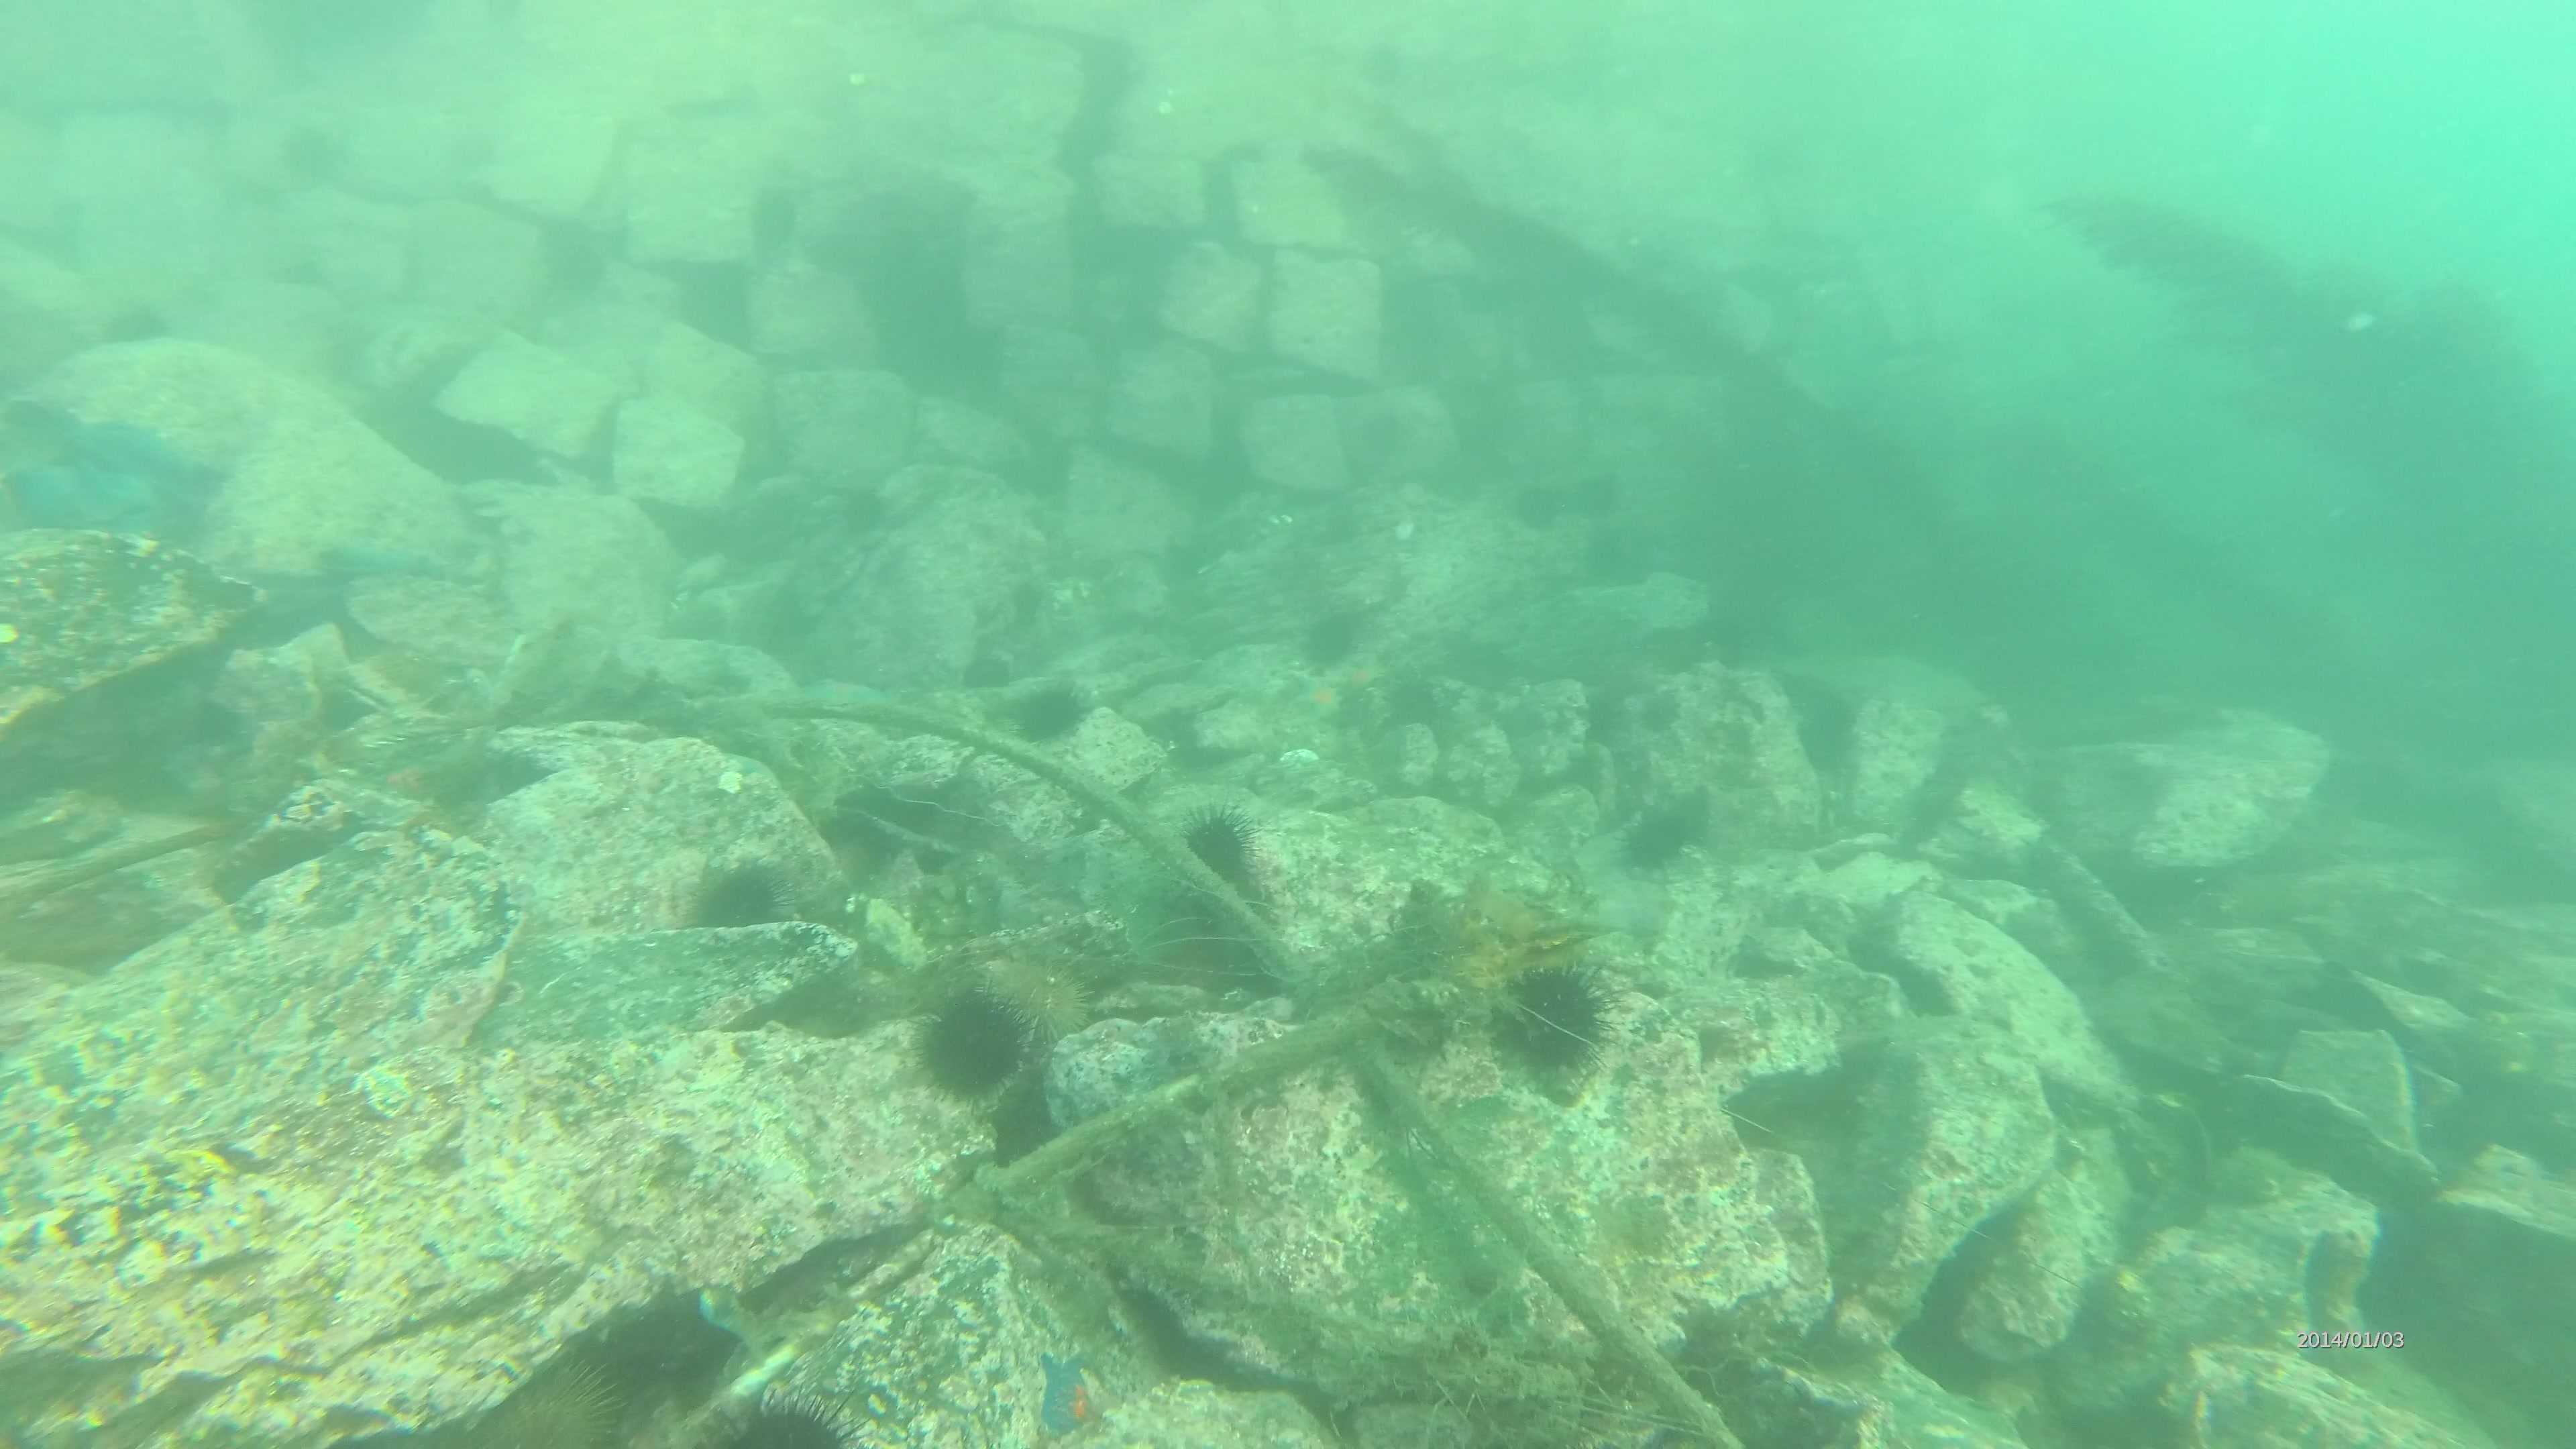echinus: (1495, 952, 1621, 1079), (469, 1357, 628, 1449), (911, 985, 1021, 1102), (676, 1387, 867, 1449), (984, 947, 1088, 1053), (1166, 801, 1256, 886), (695, 862, 784, 936), (1005, 679, 1093, 747)
starfish: (1033, 1346, 1104, 1433), (1292, 672, 1346, 718)
